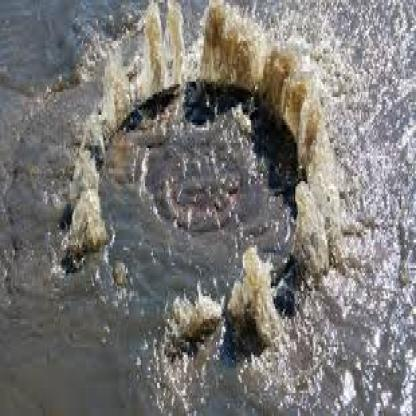drainage overflow-repair-: (53, 0, 372, 387)
